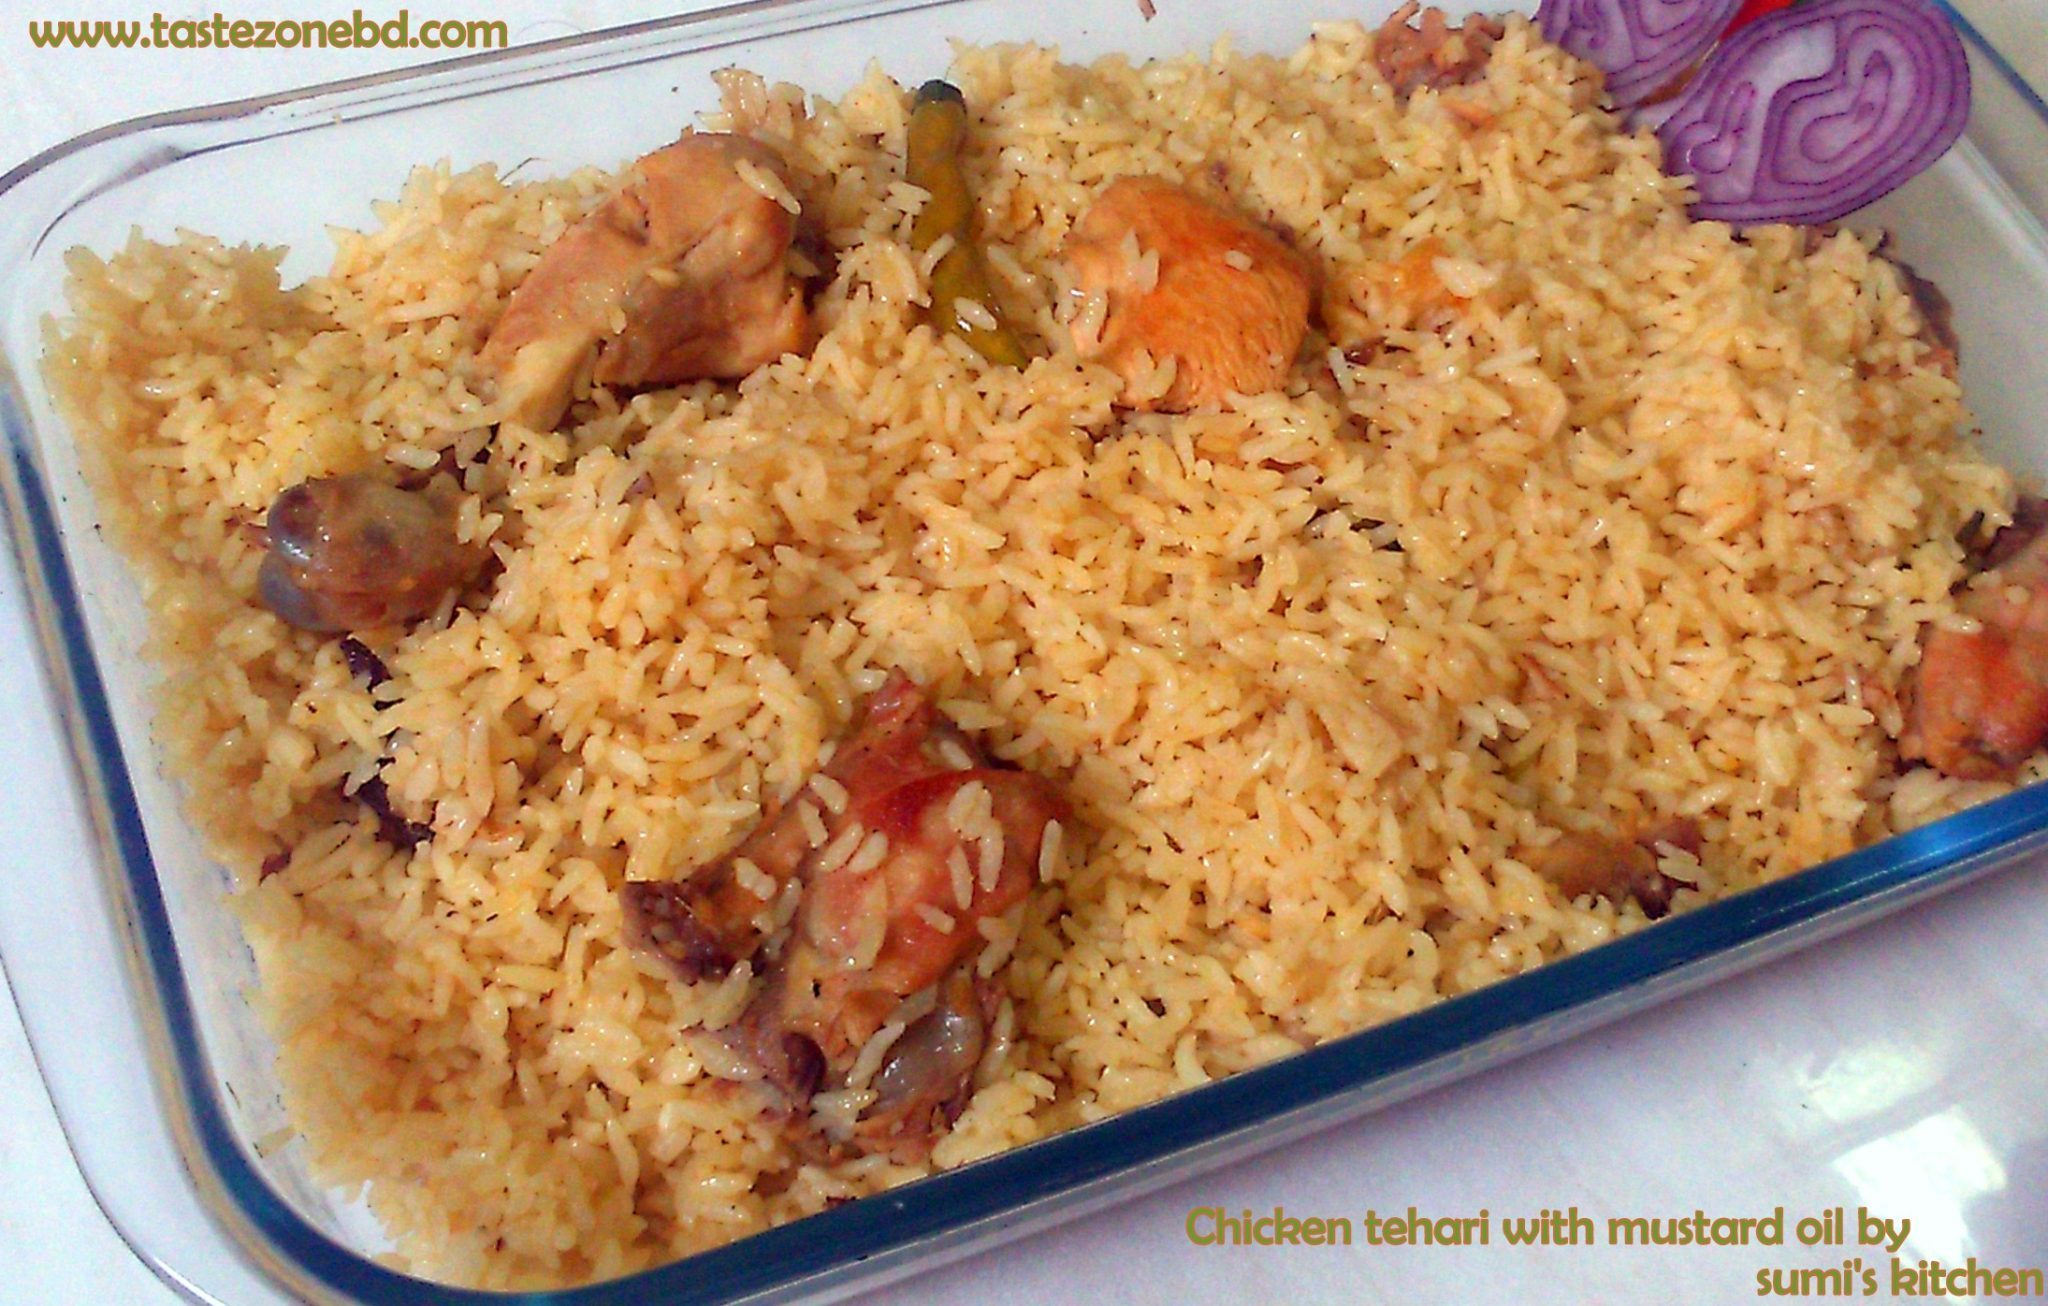tehari: (31, 49, 2048, 1278)
